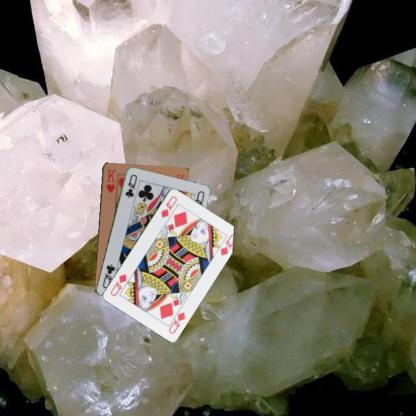Kh: (103, 166, 117, 194)
Qc: (122, 172, 138, 198)
Qd: (165, 305, 186, 335), (158, 193, 178, 219)
